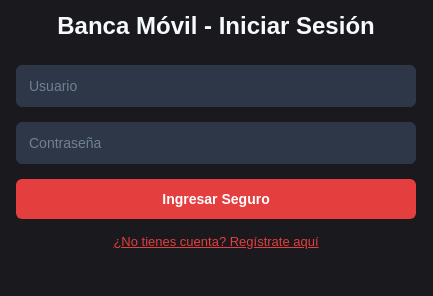
Login › muestra error genérico ante fallo de red
This screenshot has width=433, height=296.
In the field with placeholder "Usuario": [216, 86] box [16,65,416,107], type "user"
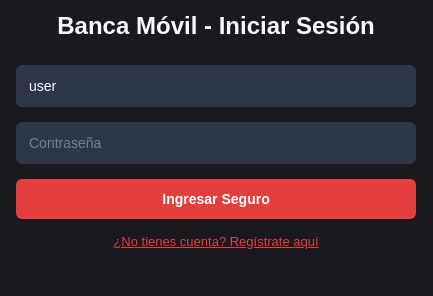
In the password field with placeholder "Contraseña": [216, 143] box [16,122,416,164], type "pass"
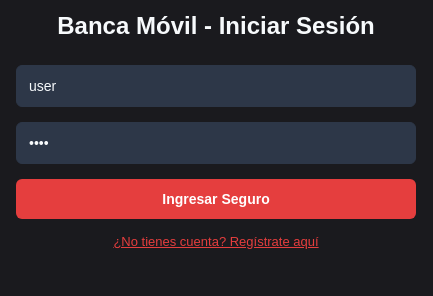
Click the button "Ingresar Seguro": [216, 199] box [16,179,416,219]
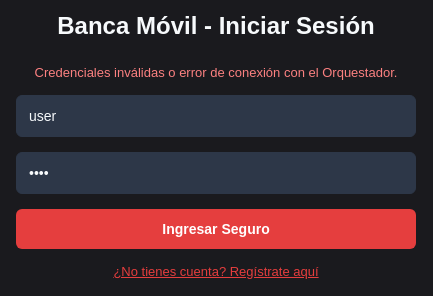
Check: the text "Credenciales inválidas" is shown, box [35,65,397,80]
